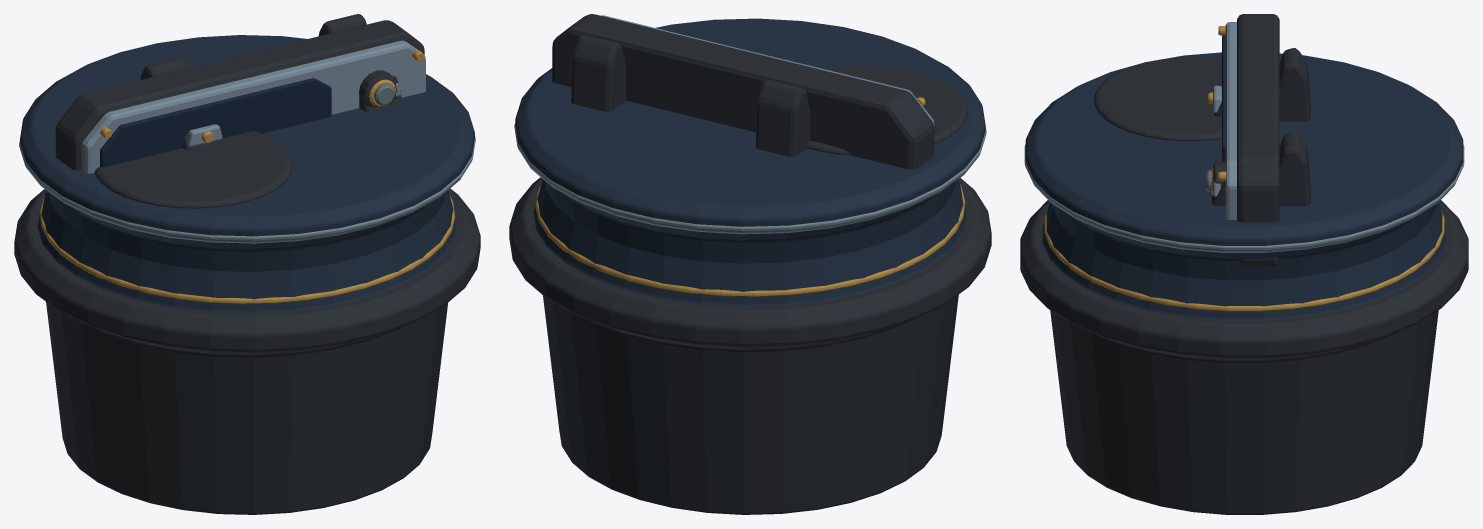
The model's file is x2_cash_stand_v2.fbx.
3 views of the same model, side by side, from view 1: azimuth 30°, elevation 25°; view 2: azimuth 150°, elevation 25°; view 3: azimuth 270°, elevation 25° (orthographic). The views are drawn at different scales.
Visible parts, largest first — view 1: StandIron, StandPaint, BadgeIron, BadgeSteel, Cash_ProductFace.002, StandSteel, StandBrass; view 2: StandIron, StandPaint, BadgeIron, StandSteel, StandBrass, BadgeSteel; view 3: StandIron, StandPaint, BadgeIron, StandSteel, StandBrass, BadgeSteel, Cash_ProductFace.002.
Boxes of the visible parts, <box> form: StandIron: <box>14,14,480,514</box>; StandPaint: <box>20,35,474,313</box>; BadgeIron: <box>55,20,424,170</box>; BadgeSteel: <box>81,40,425,173</box>; Cash_ProductFace.002: <box>100,78,331,167</box>; StandSteel: <box>19,83,475,243</box>; StandBrass: <box>39,131,455,304</box>; StandIron: <box>509,35,991,514</box>; StandPaint: <box>515,18,985,306</box>; BadgeIron: <box>552,14,934,169</box>; StandSteel: <box>514,123,986,234</box>; StandBrass: <box>535,184,965,296</box>; BadgeSteel: <box>601,15,934,126</box>; StandIron: <box>1020,48,1468,514</box>; StandPaint: <box>1025,52,1463,320</box>; BadgeIron: <box>1213,14,1279,266</box>; StandSteel: <box>1024,85,1464,252</box>; StandBrass: <box>1044,92,1444,311</box>; BadgeSteel: <box>1225,22,1236,219</box>; Cash_ProductFace.002: <box>1222,35,1225,161</box>.
Size of the model in its own units: 2.49 by 2.2 by 2.49.
